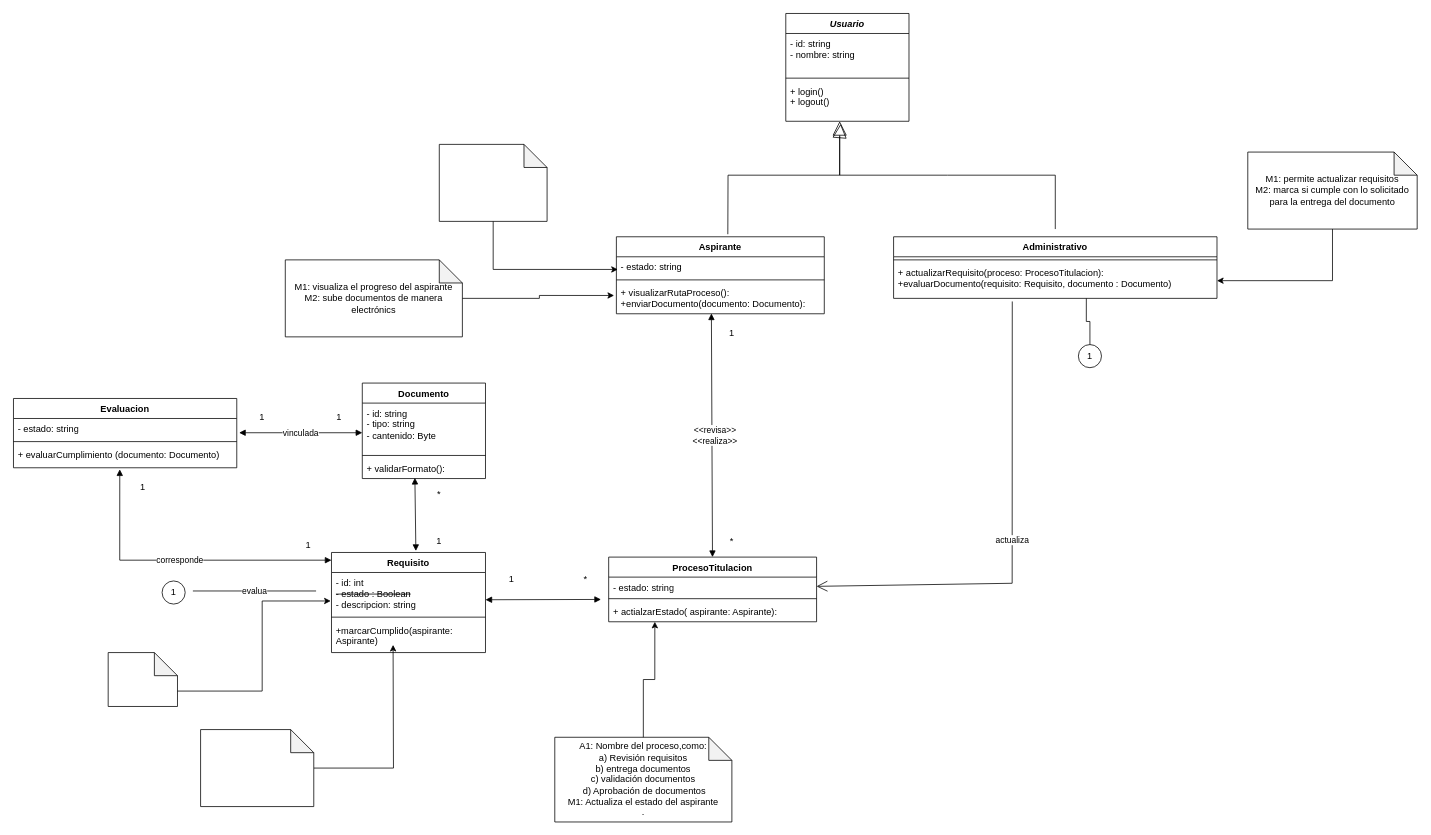
Some shapes in this 1431 by 835 pixel diagram are drawn without their labels. The shapes that lost their labels are listed below. From the top down, each one's centre as x and y in pixels, then its label:
At [493,182]: "A1 son: Pasante y Egresado".
At [142,679]: "id: Numerar los requisitos.".
At [257,768]: "M1: Marca como cumplido para el aspirante".
